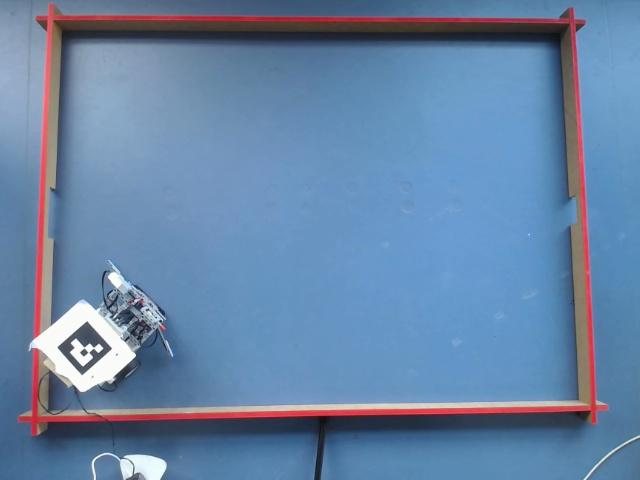ev3: (29, 260, 173, 394)
